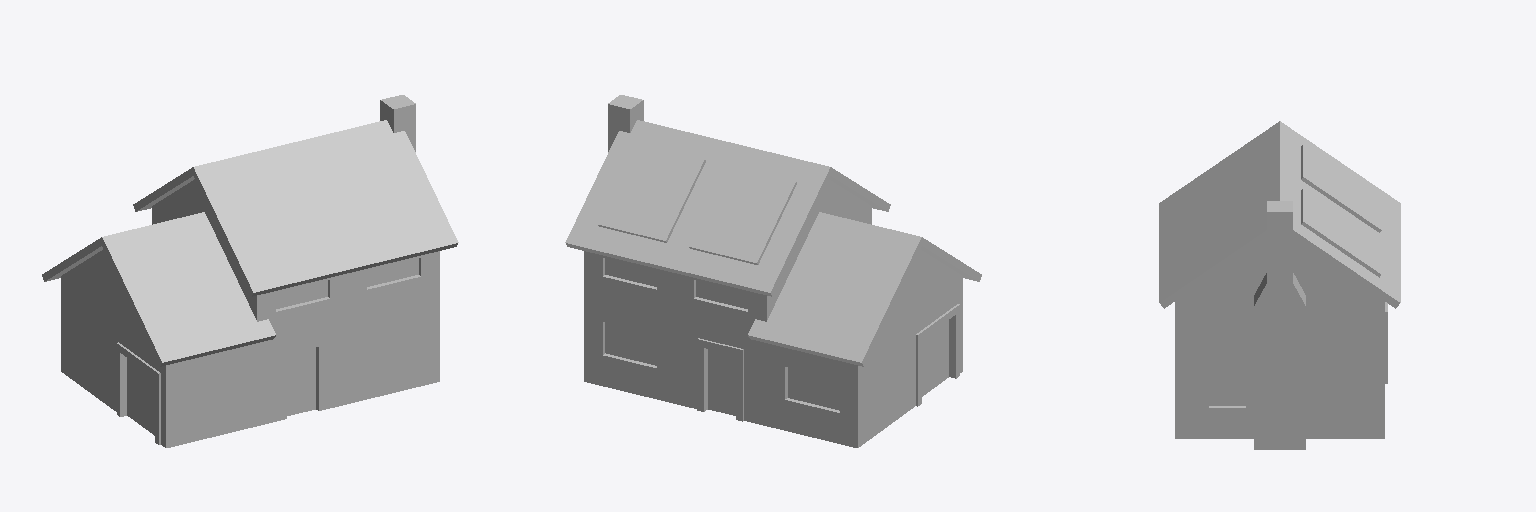
File: house_type13.obj
3 views of the same model, side by side, from view 1: azimuth 30°, elevation 25°; view 2: azimuth 150°, elevation 25°; view 3: azimuth 270°, elevation 25° (orthographic).
Visible parts, largest first — view 1: house_type13; view 2: house_type13; view 3: house_type13.
Boxes of the visible parts, <box> form: house_type13: <box>42,95,458,447</box>; house_type13: <box>565,95,981,447</box>; house_type13: <box>1159,121,1400,449</box>.
Size of the model in its own units: 1.35 by 1 by 0.916.